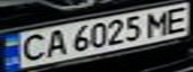0: (87, 20, 112, 50)
2: (106, 16, 130, 46)
5: (121, 12, 148, 43)
6: (69, 23, 90, 53)
A: (39, 27, 69, 58)
C: (12, 32, 51, 63)
E: (160, 3, 193, 35)
M: (142, 8, 175, 38)
